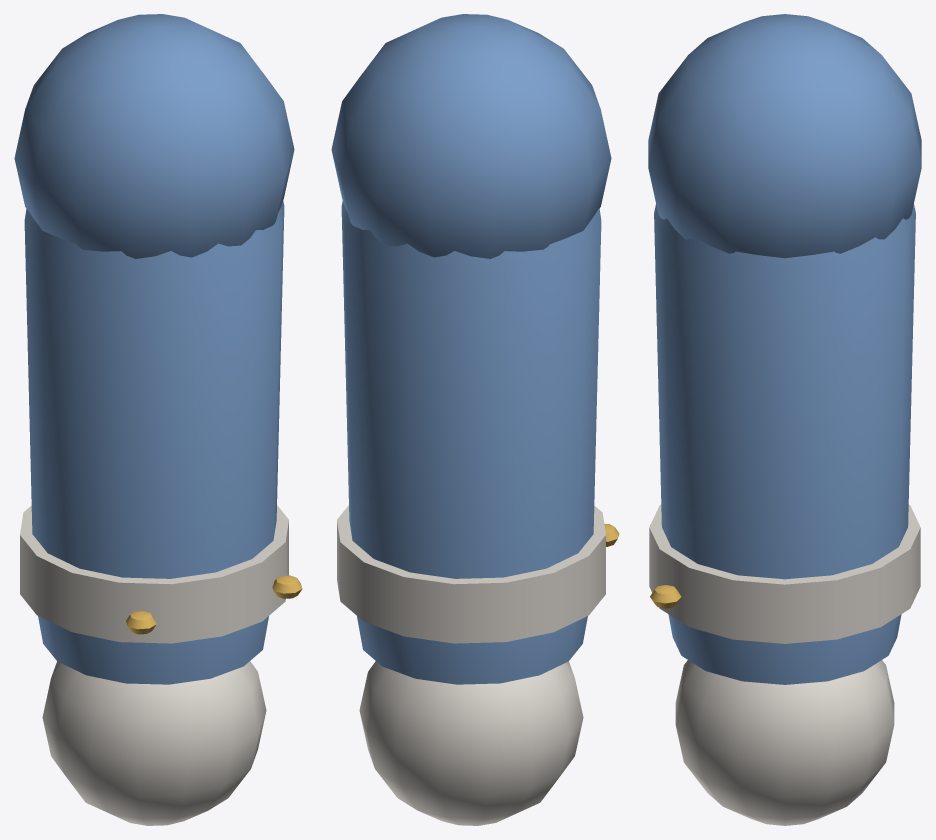
Rendered from Minion_Arm.fbx.
The picture shows the model from 3 angles, left to right: view 1: azimuth 30°, elevation 25°; view 2: azimuth 150°, elevation 25°; view 3: azimuth 270°, elevation 25°; orthographic projection.
Parts seen in each view (by area): view 1: Minion_Arm; view 2: Minion_Arm; view 3: Minion_Arm.
Boxes of the visible parts, x1,y1,x2,y2 form: Minion_Arm: (14, 14, 302, 825); Minion_Arm: (331, 14, 619, 825); Minion_Arm: (648, 14, 921, 825).
Bounding box in the file's own units: 0.036 × 0.1116 × 0.0351.
